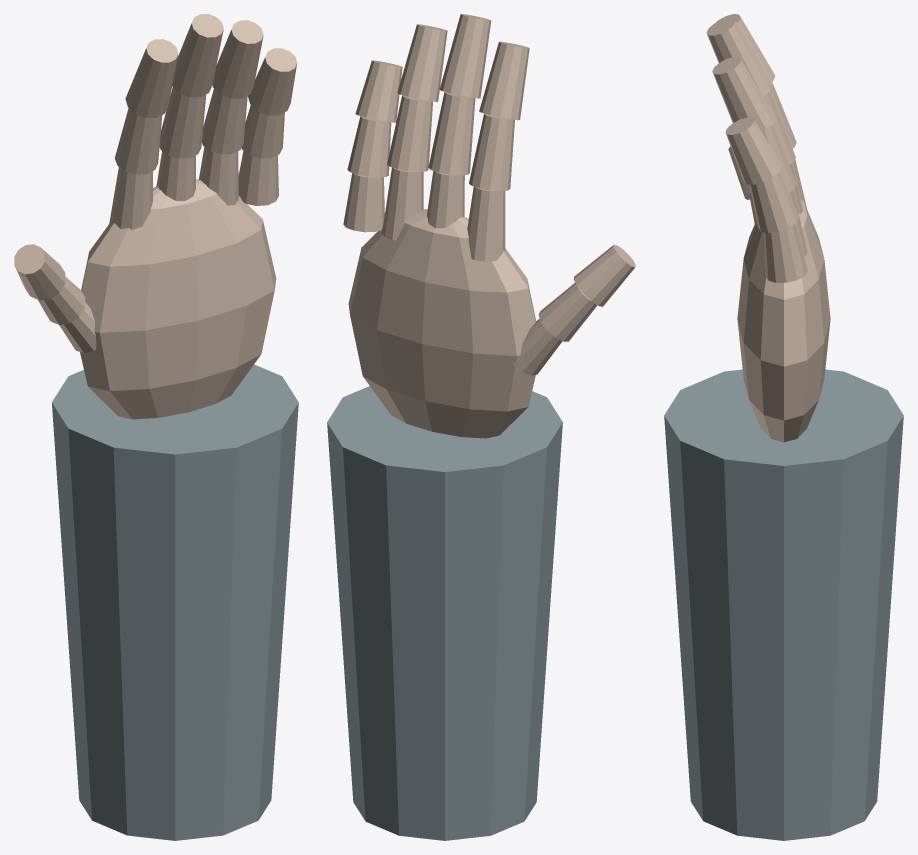
File: HAND-LS-R.glb
3 views of the same model, side by side, from view 1: azimuth 30°, elevation 25°; view 2: azimuth 150°, elevation 25°; view 3: azimuth 270°, elevation 25° (orthographic). The views are drawn at different scales.
Parts seen in each view (by area): view 1: forearm, palm, finger_2_bone_2, finger_1_bone_2, finger_3_bone_2, finger_2_bone_1, finger_4_bone_2, finger_1_bone_1, finger_3_bone_1, finger_1_bone_0, finger_0_bone_2, finger_4_bone_0 (+5 smaller); view 2: forearm, palm, finger_2_bone_2, finger_2_bone_1, finger_1_bone_2, finger_1_bone_1, finger_3_bone_2, finger_3_bone_1, finger_1_bone_0, finger_4_bone_2, finger_0_bone_2, finger_4_bone_1 (+5 smaller); view 3: forearm, palm, finger_3_bone_2, finger_4_bone_2, finger_4_bone_0, finger_4_bone_1, finger_2_bone_2, finger_3_bone_1, finger_2_bone_1, finger_1_bone_2.
Part boxes in pixels (x1=…): forearm: x1=52, y1=364, x2=298, y2=840; palm: x1=80, y1=179, x2=276, y2=419; finger_2_bone_2: x1=172, y1=14, x2=223, y2=97; finger_1_bone_2: x1=125, y1=39, x2=178, y2=117; finger_3_bone_2: x1=212, y1=20, x2=263, y2=98; finger_2_bone_1: x1=159, y1=87, x2=206, y2=158; finger_4_bone_2: x1=248, y1=48, x2=297, y2=115; finger_1_bone_1: x1=114, y1=108, x2=162, y2=174; finger_3_bone_1: x1=202, y1=89, x2=247, y2=154; finger_1_bone_0: x1=109, y1=167, x2=152, y2=230; finger_0_bone_2: x1=14, y1=244, x2=65, y2=300; finger_4_bone_0: x1=238, y1=151, x2=278, y2=205; forearm: x1=327, y1=386, x2=562, y2=840; palm: x1=348, y1=209, x2=535, y2=438; finger_2_bone_2: x1=439, y1=14, x2=491, y2=98; finger_2_bone_1: x1=428, y1=92, x2=475, y2=175; finger_1_bone_2: x1=479, y1=41, x2=529, y2=120; finger_1_bone_1: x1=469, y1=113, x2=514, y2=191; finger_3_bone_2: x1=397, y1=24, x2=447, y2=101; finger_3_bone_1: x1=387, y1=95, x2=432, y2=171; finger_1_bone_0: x1=467, y1=186, x2=505, y2=261; finger_4_bone_2: x1=355, y1=60, x2=402, y2=122; finger_0_bone_2: x1=573, y1=244, x2=635, y2=306; finger_4_bone_1: x1=347, y1=116, x2=391, y2=177; forearm: x1=664, y1=369, x2=903, y2=840; palm: x1=737, y1=198, x2=830, y2=442; finger_3_bone_2: x1=712, y1=57, x2=775, y2=131; finger_4_bone_2: x1=725, y1=117, x2=782, y2=184; finger_4_bone_0: x1=763, y1=224, x2=807, y2=282; finger_4_bone_1: x1=749, y1=171, x2=798, y2=233; finger_2_bone_2: x1=706, y1=18, x2=772, y2=96; finger_3_bone_1: x1=762, y1=124, x2=796, y2=192; finger_2_bone_1: x1=763, y1=91, x2=795, y2=164; finger_1_bone_2: x1=715, y1=14, x2=775, y2=82.
Size of the model in its own units: 0.1201 by 0.3234 by 0.09.
